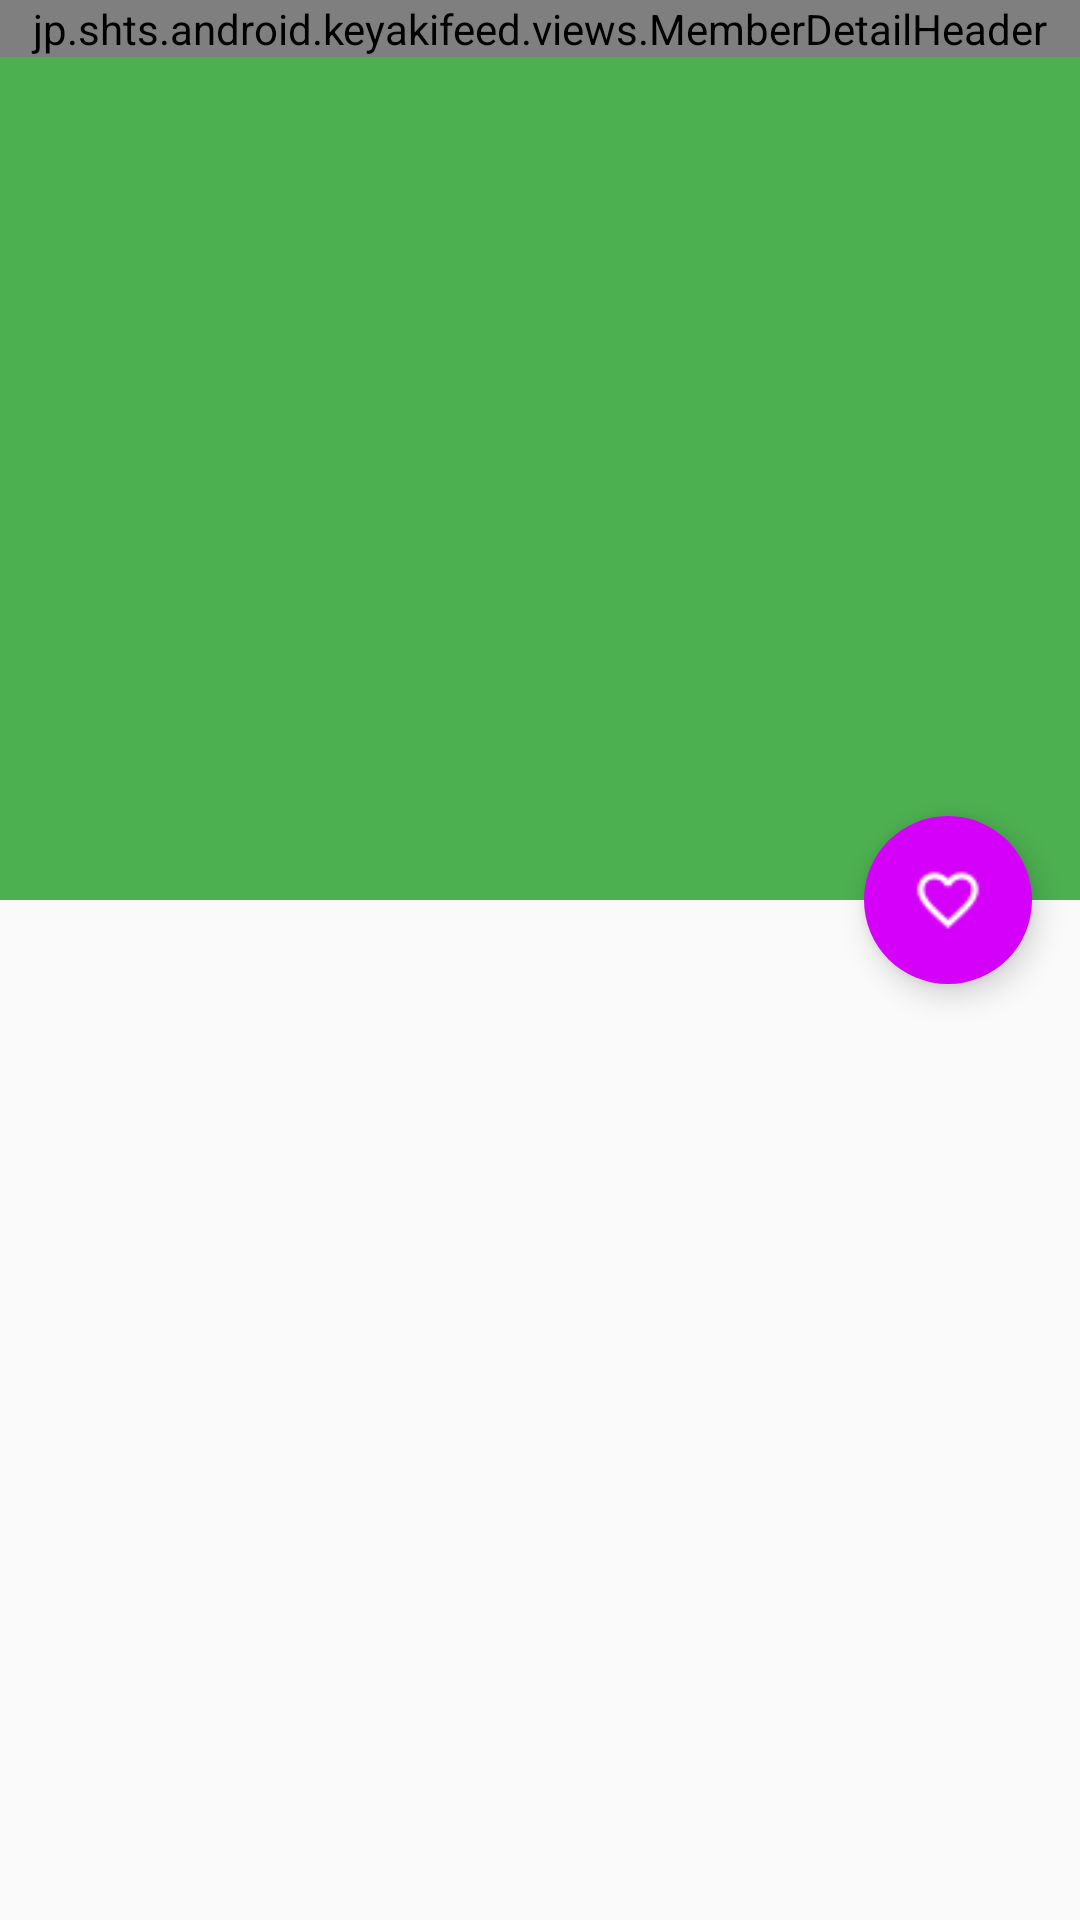

Icons on this 1080x1920 Android screen, each with the point to tap as (x,y):
favorite border: (948,900)
